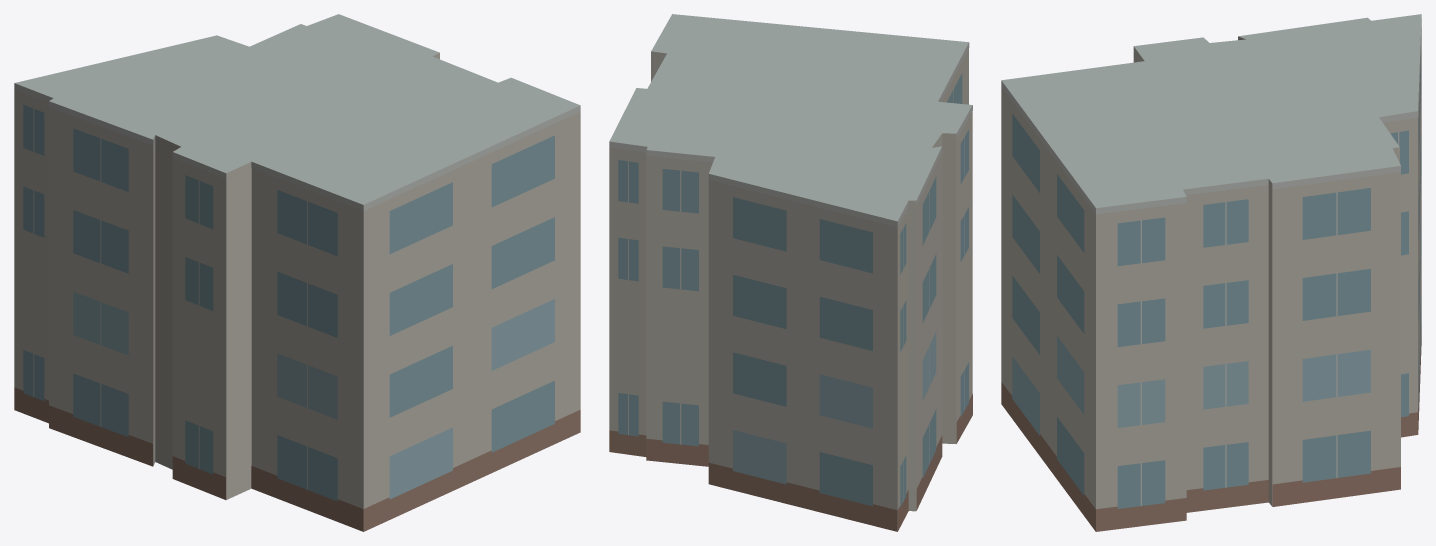
File: survey-upis-32683090.glb
3 renders of one model, left to right at view 1: azimuth 30°, elevation 25°; view 2: azimuth 150°, elevation 25°; view 3: azimuth 270°, elevation 25°, orthographic. The views are drawn at different scales.
Visible parts, largest first — view 1: survey-upis-32683090.tmp; view 2: survey-upis-32683090.tmp; view 3: survey-upis-32683090.tmp.
Boxes of the visible parts, x1=… form: survey-upis-32683090.tmp: x1=14, y1=14, x2=580, y2=531; survey-upis-32683090.tmp: x1=609, y1=14, x2=972, y2=531; survey-upis-32683090.tmp: x1=1001, y1=14, x2=1421, y2=531.
Bounding box in the file's own units: 16.61 × 12.9 × 15.19.
